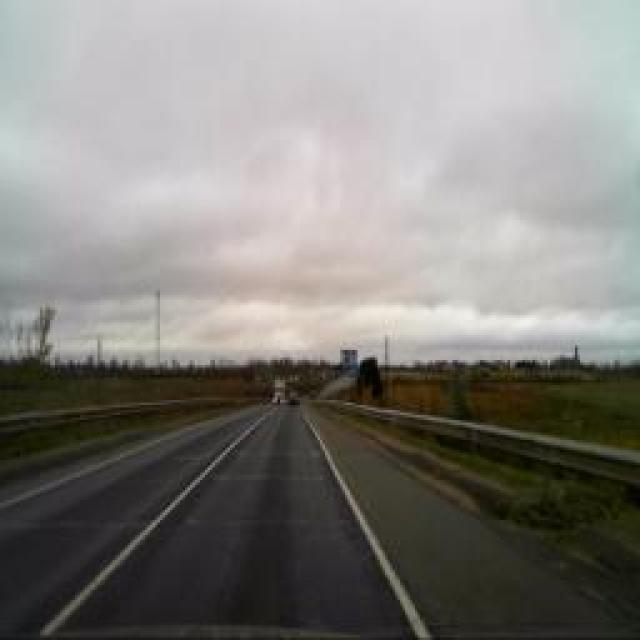sign: (348, 348, 358, 372), (340, 348, 350, 372)
